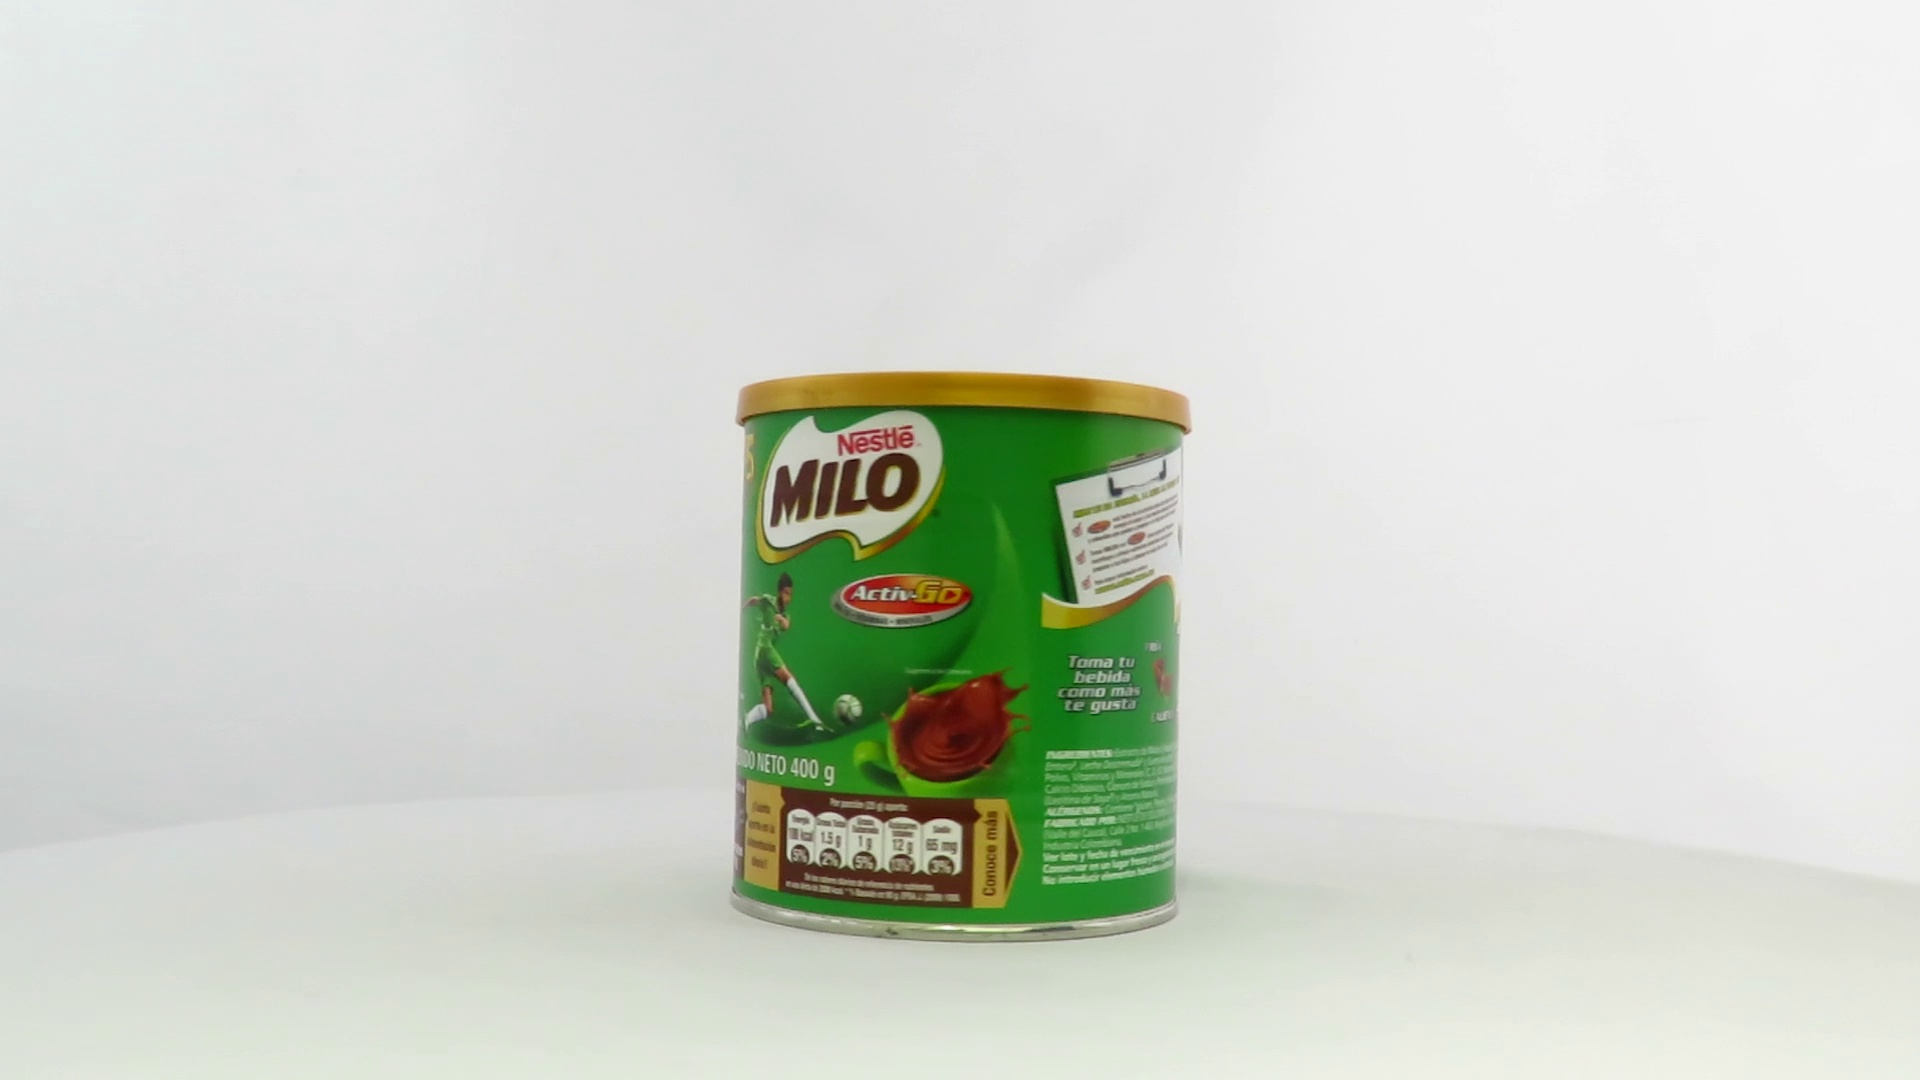COL0170203LAT40000: (724, 367, 1197, 949)
